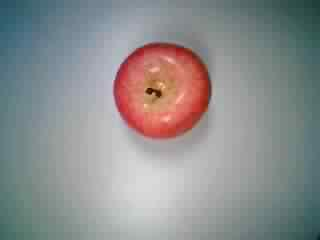apple: (111, 41, 216, 143)
